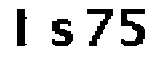5: (116, 7, 148, 48)
7: (81, 6, 113, 50)
l: (12, 7, 34, 52)
s: (48, 18, 74, 50)
